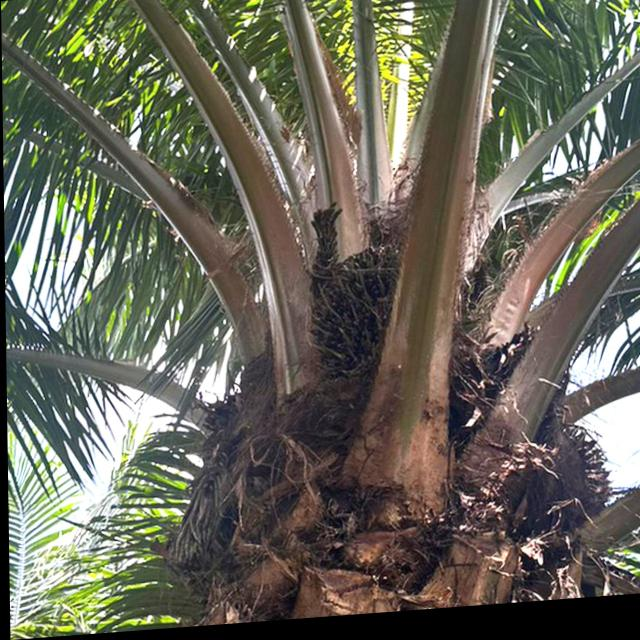unripe: (303, 244, 426, 398)
